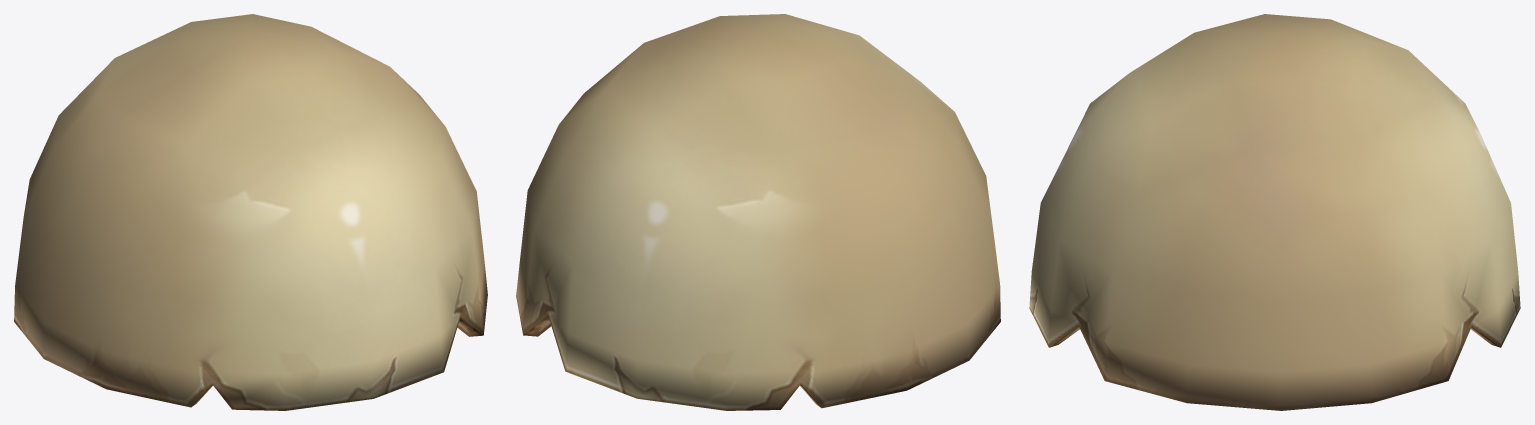
The model's file is Headwear_2600064.fbx.
3 renders of one model, left to right at view 1: azimuth 30°, elevation 25°; view 2: azimuth 150°, elevation 25°; view 3: azimuth 270°, elevation 25°, orthographic.
Visible parts, largest first — view 1: Headwear_2600064; view 2: Headwear_2600064; view 3: Headwear_2600064.
Boxes of the visible parts, x1,y1,x2,y2 form: Headwear_2600064: (14, 14, 487, 410); Headwear_2600064: (516, 14, 1000, 410); Headwear_2600064: (1029, 14, 1520, 410).
Bounding box in the file's own units: 53.24 × 33.17 × 54.08.
